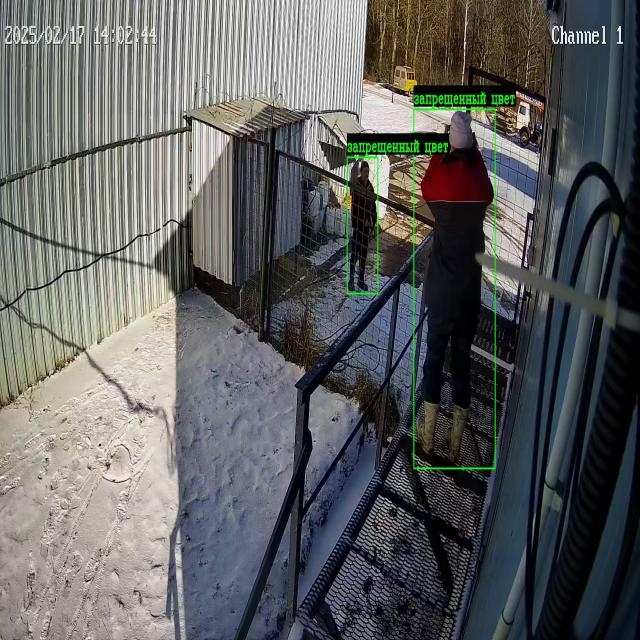Person: (349, 161, 376, 289)
Red uniform: (415, 111, 494, 463)
